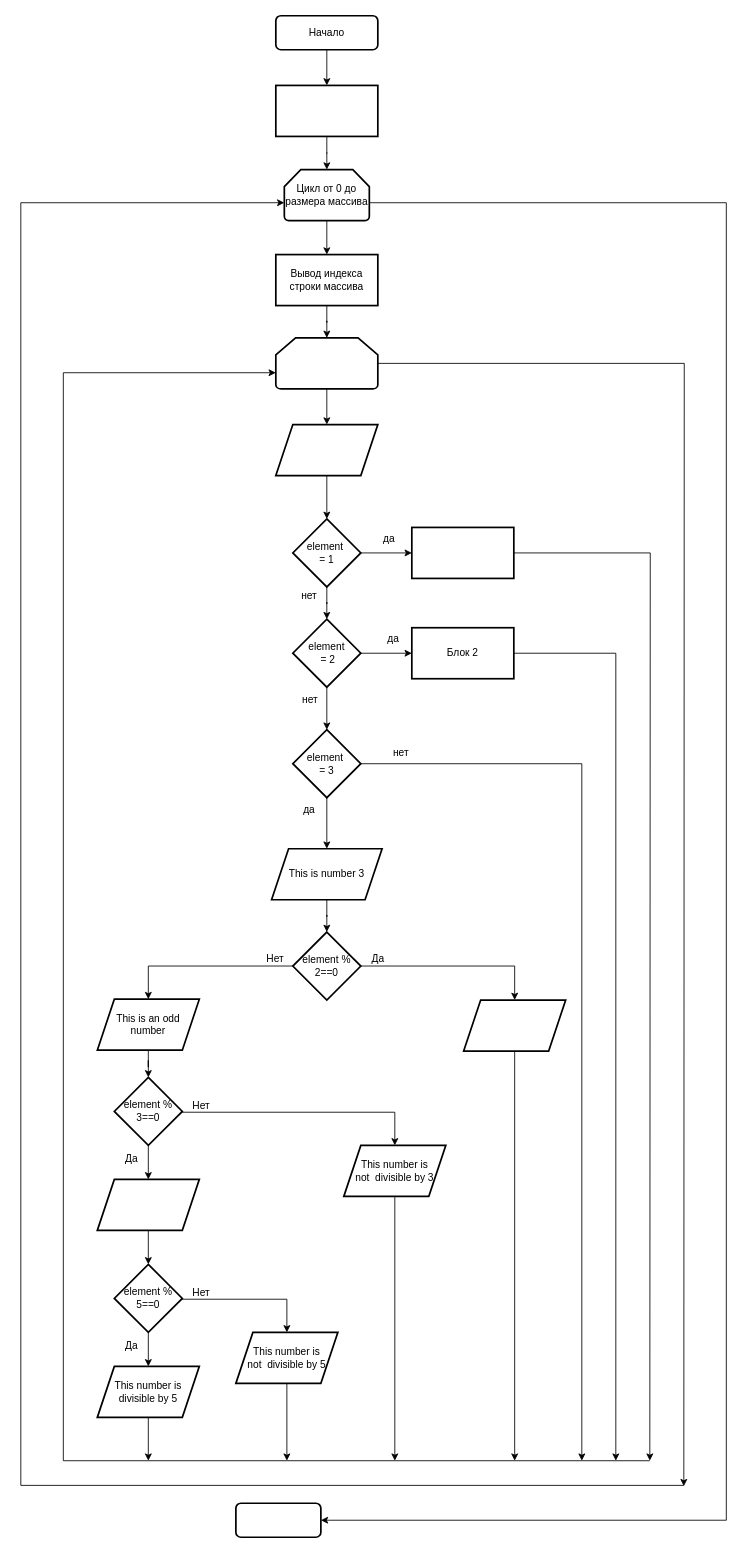
Some shapes in this 748 by 1552 pixel diagram are drawn without their labels. Here are the shapes that lost their labels. From the top down, the centre of each, then its label:
(326,110): Определение массива
(326,363): Цикл от 0 до количества столбцов массива
(326,449): Вывод element
(462,552): Блок 1
(514,1025): This is an even number
(148,1204): This number is divisible by 3
(278,1520): Конец
